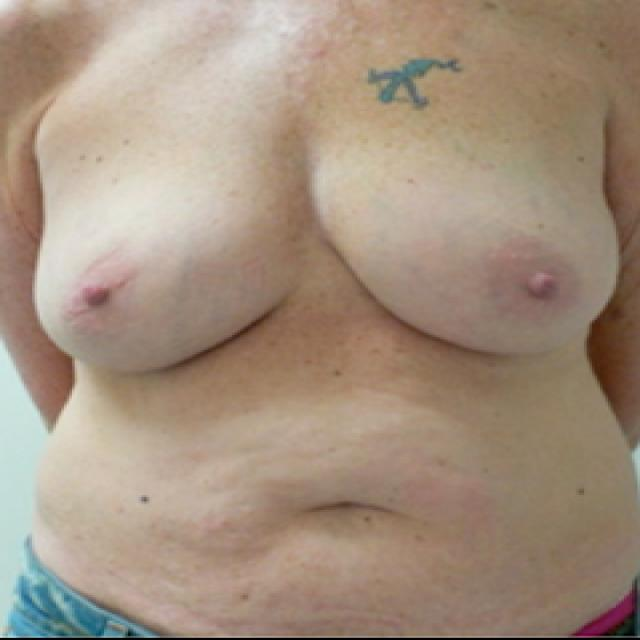Seno ileso: (306, 95, 634, 376), (22, 94, 301, 392)
